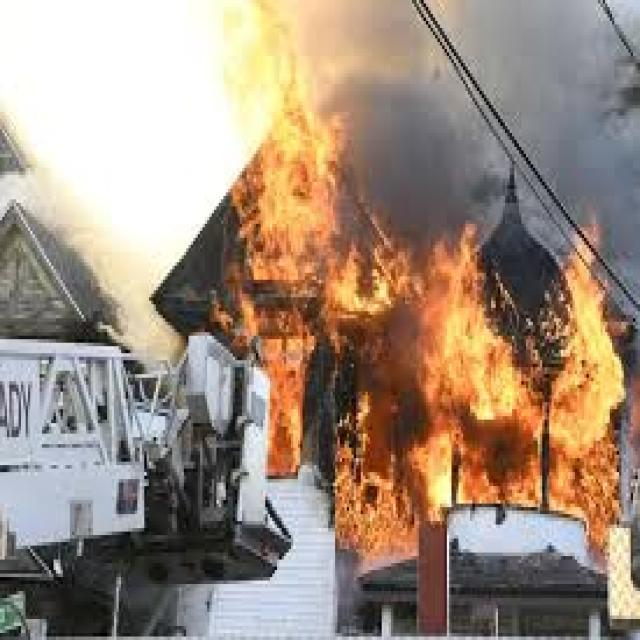Fire: (333, 261, 626, 554), (248, 113, 329, 480)
Smoke: (365, 0, 640, 214)
